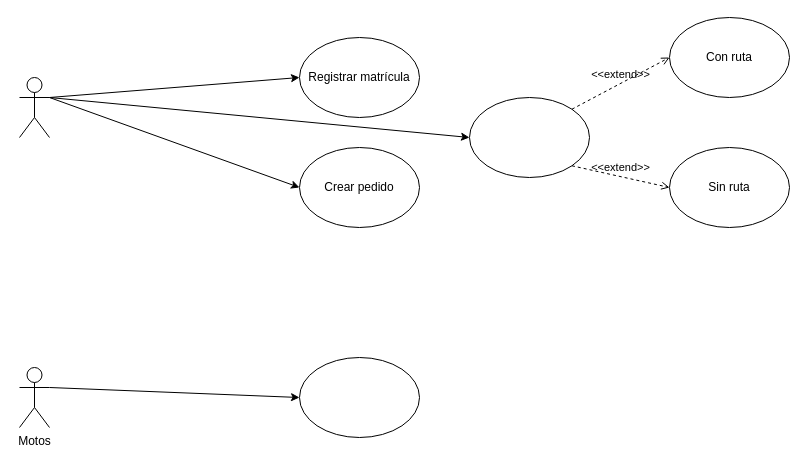
This 807x466 diagram has some shape labels left out. Here are the shapes that lost their labels. From the top down, the centre of each, then its label:
At point (34, 107): "Admin".
At point (529, 137): "Mostrar mapa".
At point (359, 397): "Reportar localizacion".
